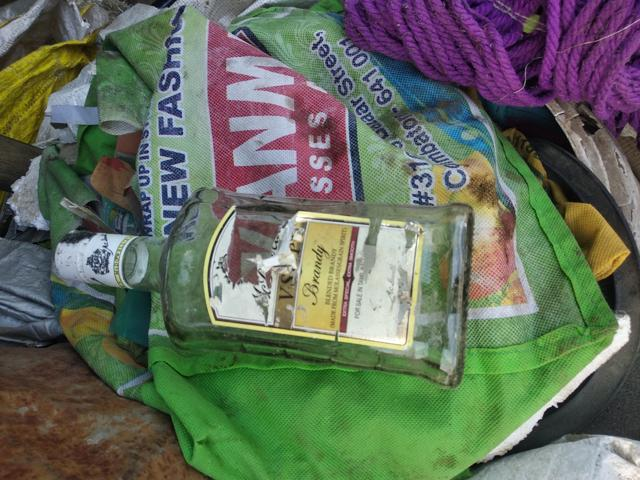botol_kaca: (51, 182, 492, 397)
